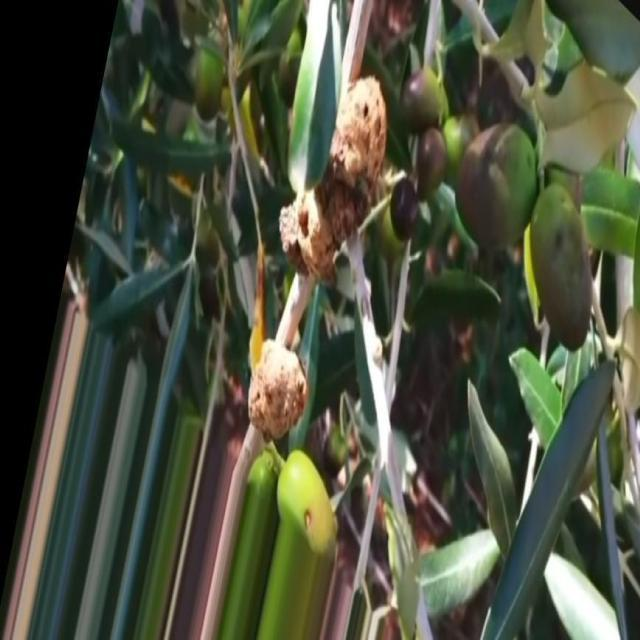Tuberculosis: (280, 76, 388, 280), (248, 340, 316, 440)
